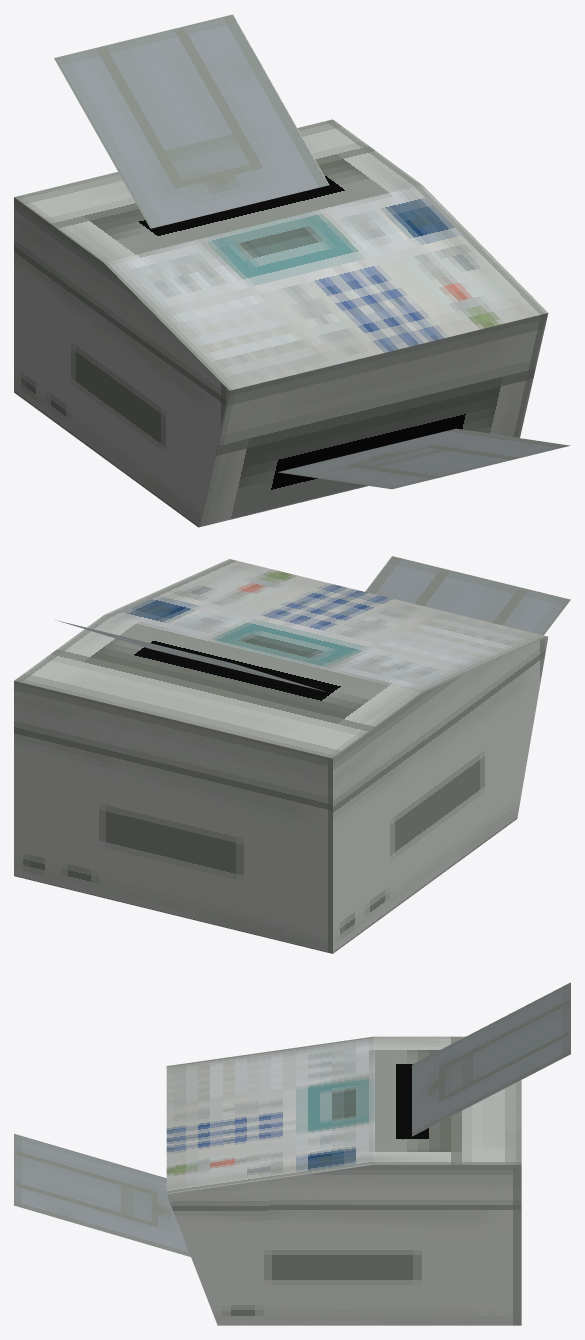
Rendered from faxmachine.fbx.
3 views of the same model, one above another, from view 1: azimuth 30°, elevation 25°; view 2: azimuth 150°, elevation 25°; view 3: azimuth 270°, elevation 25° (orthographic). The views are drawn at different scales.
Visible parts, largest first — view 1: faxmachine; view 2: faxmachine; view 3: faxmachine.
Part boxes in pixels (bbox=[...]): faxmachine: bbox=[14, 14, 569, 527]; faxmachine: bbox=[14, 556, 570, 953]; faxmachine: bbox=[14, 982, 570, 1325].
Size of the model in its own units: 31.24 by 27.66 by 57.37.
